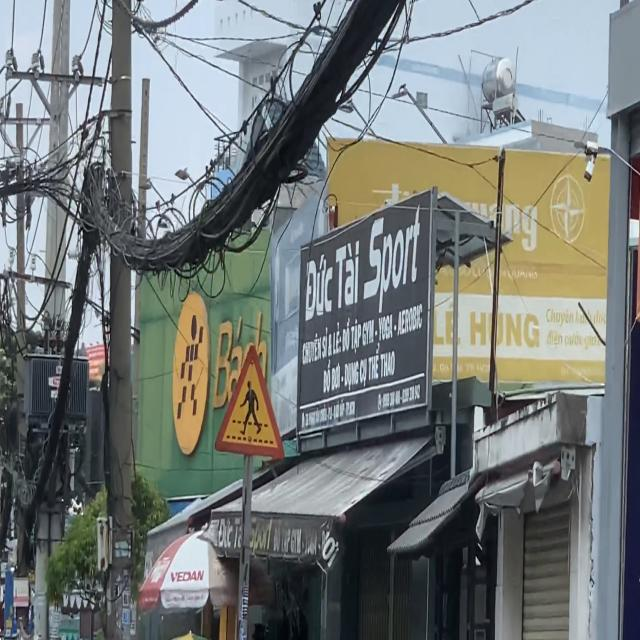Nguoi di bo cat ngang: (214, 344, 286, 462)
